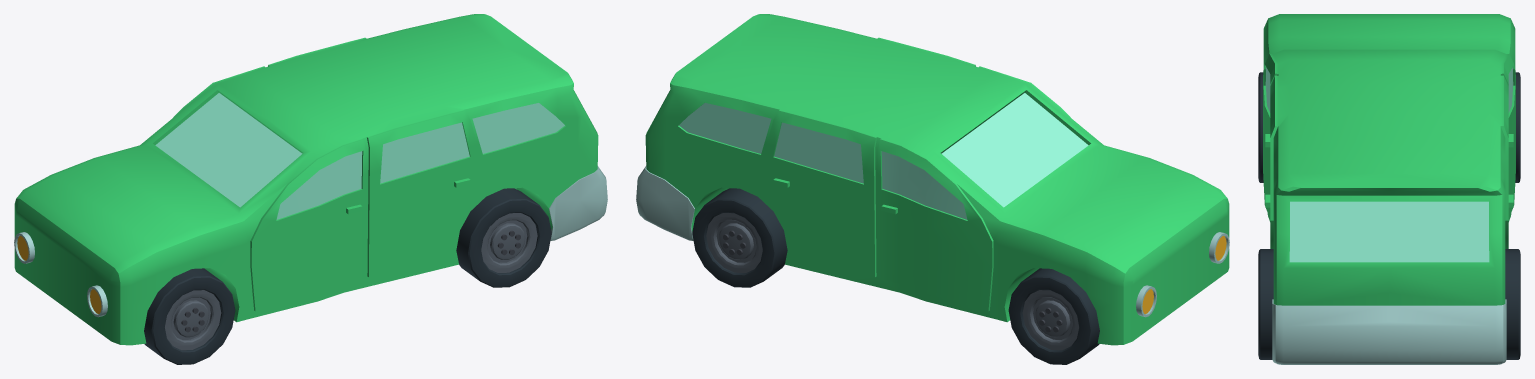
File: SUVGreen.fbx
The picture shows the model from 3 angles, left to right: view 1: azimuth 30°, elevation 25°; view 2: azimuth 150°, elevation 25°; view 3: azimuth 270°, elevation 25°; orthographic projection. The views are drawn at different scales.
Visible parts, largest first — view 1: SUV.003, Wheels.003; view 2: SUV.003, Wheels.003; view 3: SUV.003, Wheels.003.
Part boxes in pixels (<box>): SUV.003: <box>14,14,607,345</box>; Wheels.003: <box>144,188,551,364</box>; SUV.003: <box>636,14,1229,345</box>; Wheels.003: <box>692,188,1099,364</box>; SUV.003: <box>1263,14,1515,364</box>; Wheels.003: <box>1258,72,1520,359</box>.
Bounding box in the file's own units: 471 × 166 × 186.
